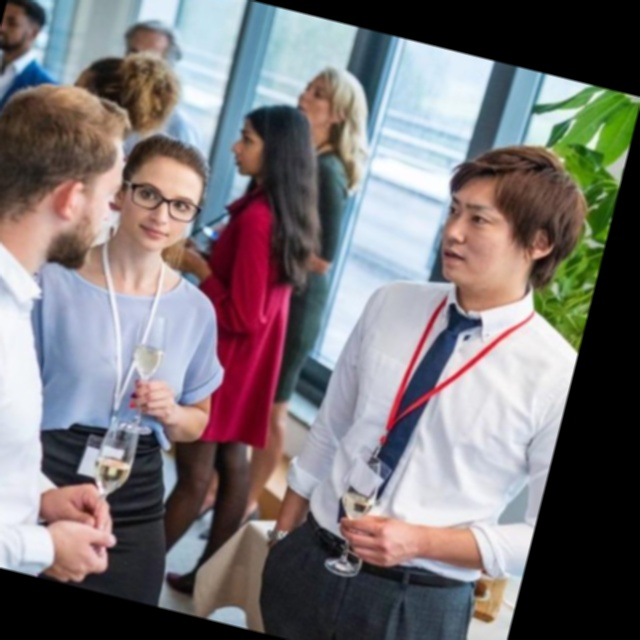Sin_Casco_Mascarrilla: (424, 126, 599, 310), (105, 128, 217, 267), (224, 96, 318, 195)
Sin_Chaleco: (285, 264, 586, 605), (0, 226, 92, 562)
